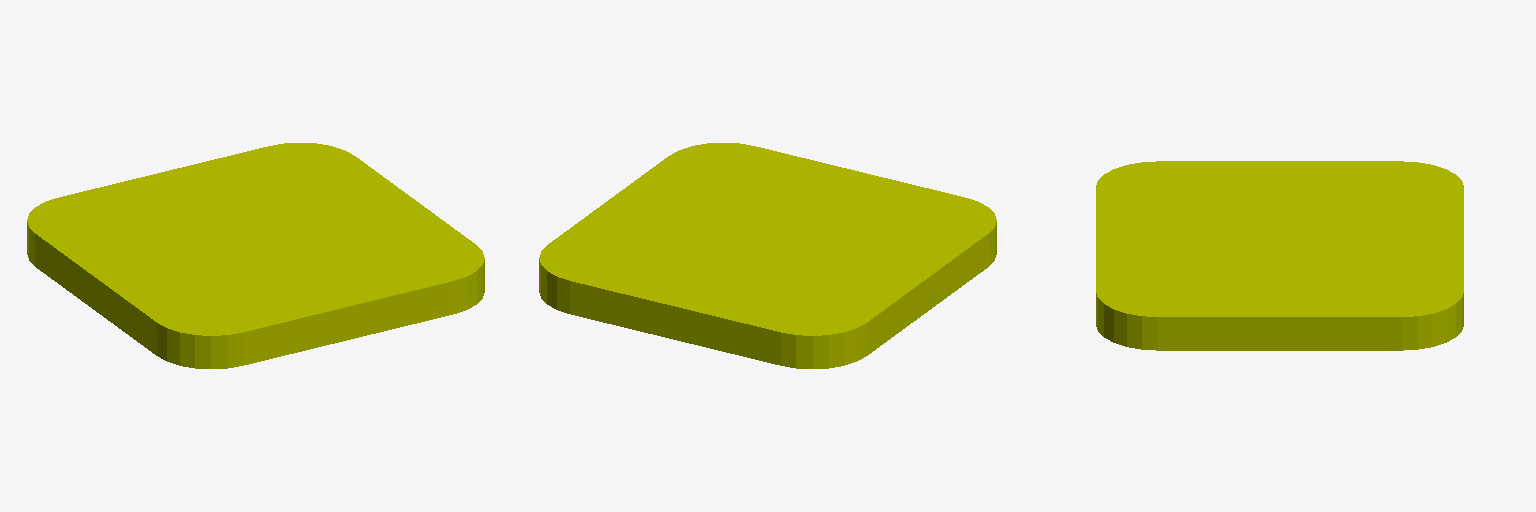
Rendered from CaseSable.obj.
3 renders of one model, left to right at view 1: azimuth 30°, elevation 25°; view 2: azimuth 150°, elevation 25°; view 3: azimuth 270°, elevation 25°, orthographic.
Visible parts, largest first — view 1: Sand; view 2: Sand; view 3: Sand.
Part boxes in pixels (x1,y1,x2,y2): Sand: (27, 143, 484, 368); Sand: (539, 143, 996, 368); Sand: (1096, 161, 1463, 350).
Bounding box in the file's own units: 2 × 0.2 × 2.